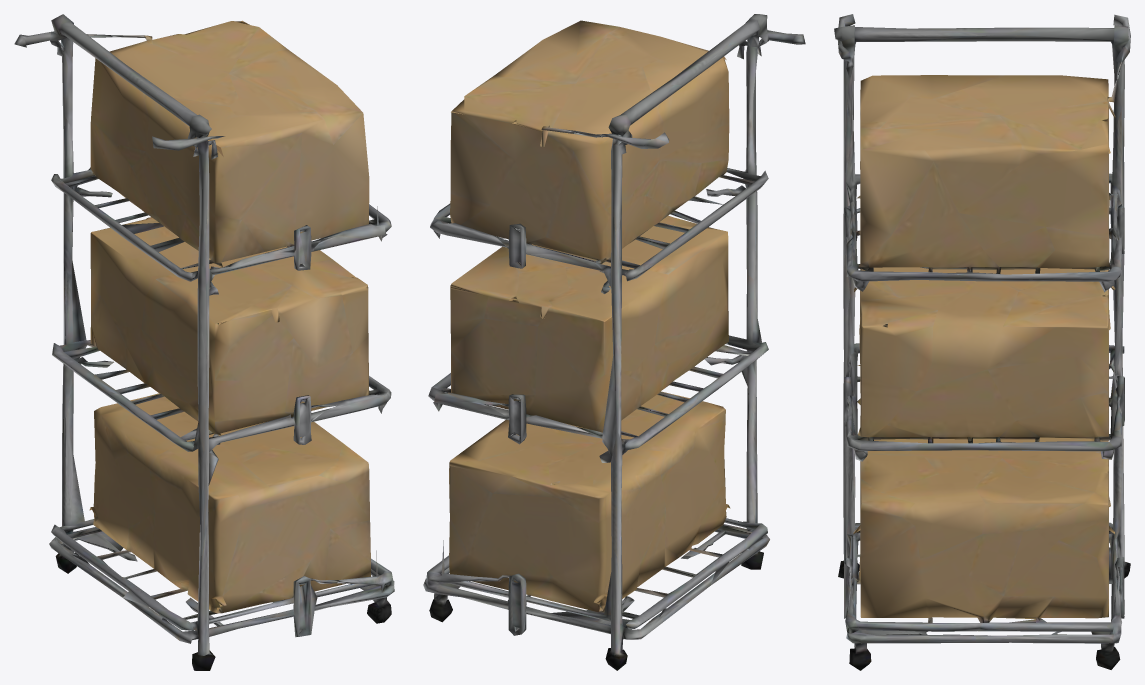
File: samplerack-v1.glb
The picture shows the model from 3 angles, left to right: view 1: azimuth 30°, elevation 25°; view 2: azimuth 150°, elevation 25°; view 3: azimuth 270°, elevation 25°; orthographic projection.
Parts seen in each view (by area): view 1: prop__samplerack; view 2: prop__samplerack; view 3: prop__samplerack.
Boxes of the visible parts, x1,y1,x2,y2 form: prop__samplerack: (14, 14, 394, 670); prop__samplerack: (423, 14, 805, 670); prop__samplerack: (834, 14, 1130, 670).
Bounding box in the file's own units: 0.5453 × 1.15 × 0.5627.
Materials: 1 (1 with a texture image).
